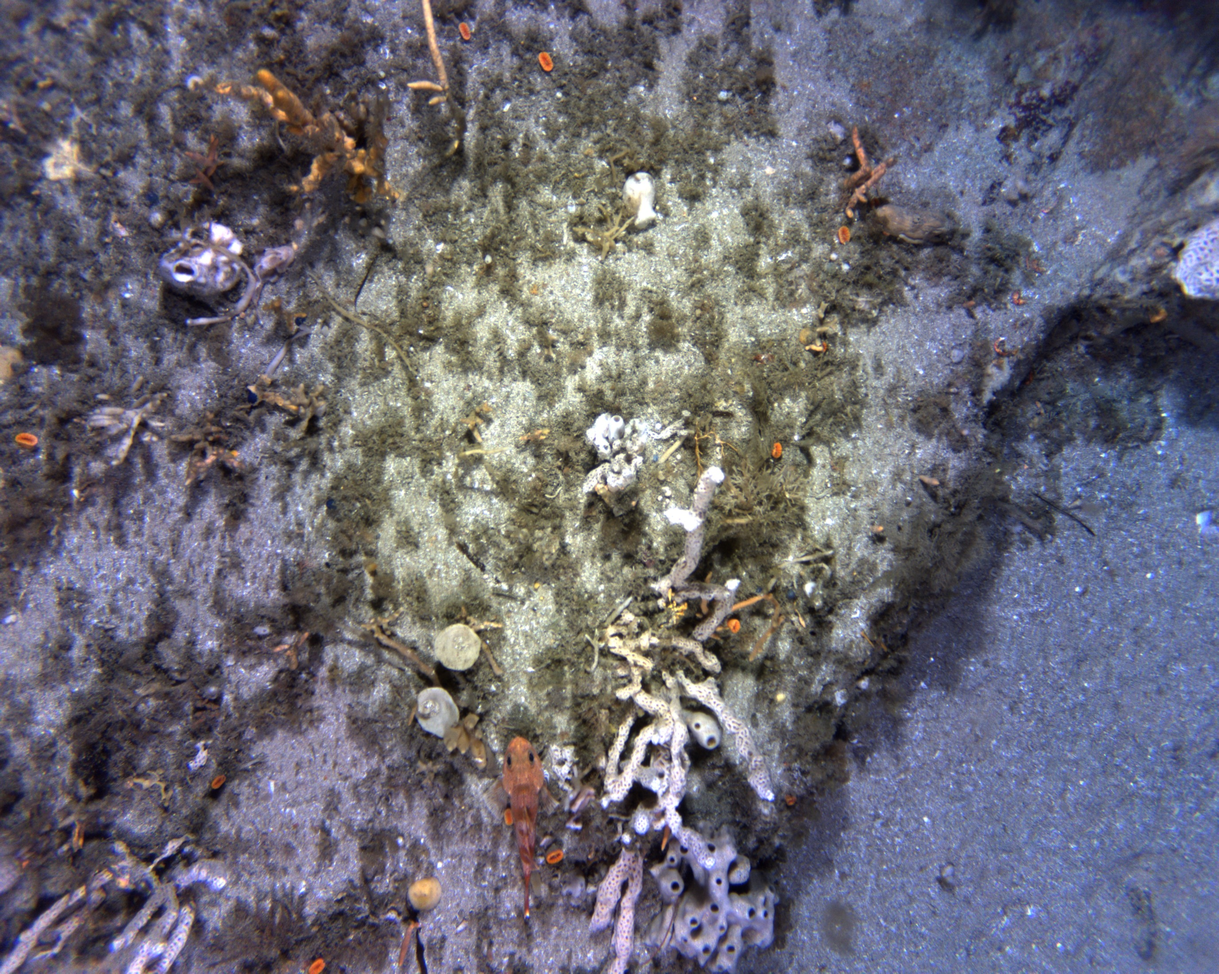Brachionichthyidae: (248, 244, 299, 327)
